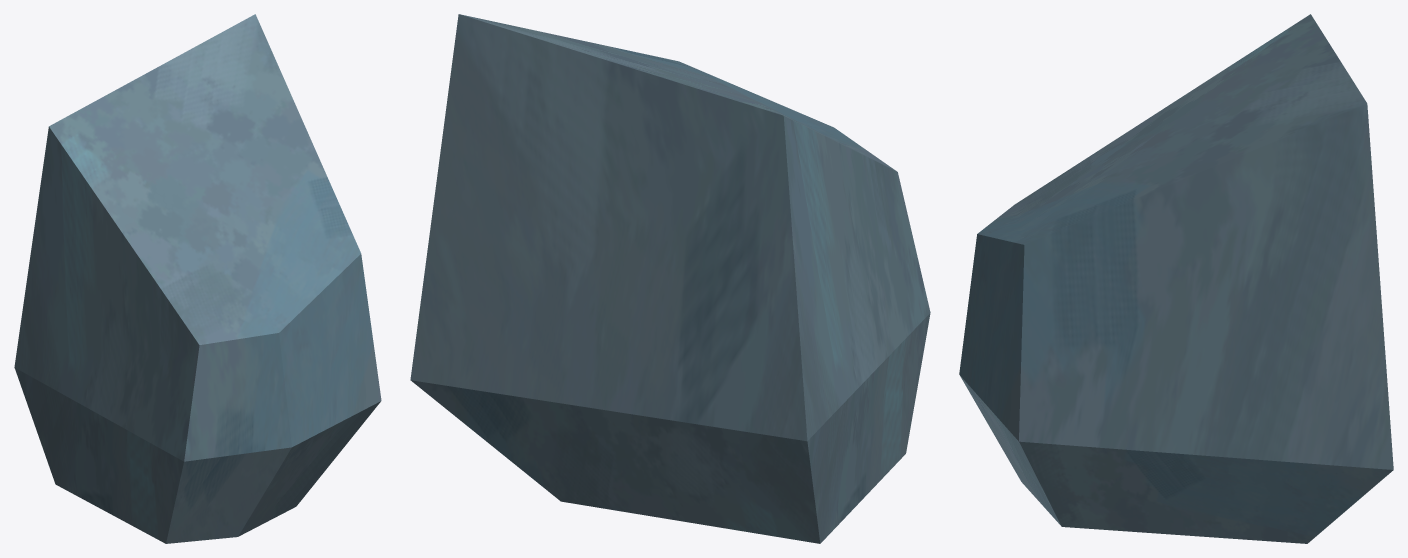
File: stone10.fbx
The picture shows the model from 3 angles, left to right: view 1: azimuth 30°, elevation 25°; view 2: azimuth 150°, elevation 25°; view 3: azimuth 270°, elevation 25°; orthographic projection. The views are drawn at different scales.
Visible parts, largest first — view 1: stone10; view 2: stone10; view 3: stone10.
Boxes of the visible parts, x1,y1,x2,y2 form: stone10: (14,14,381,543); stone10: (410,14,930,543); stone10: (959,14,1393,543).
Size of the model in its own units: 352 by 456 by 379.
